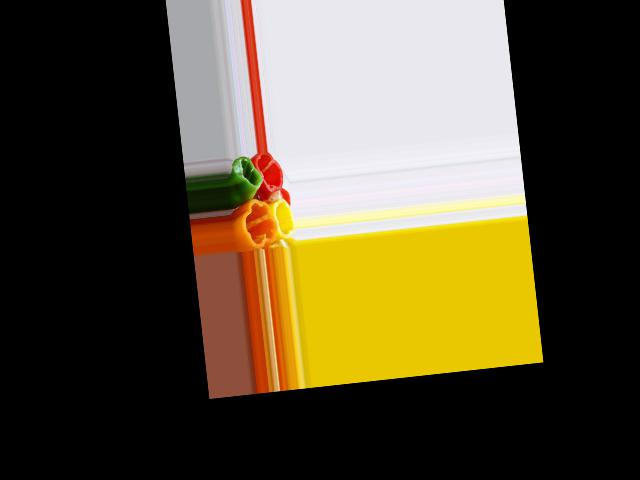bell_pepper: (255, 152, 285, 194)
